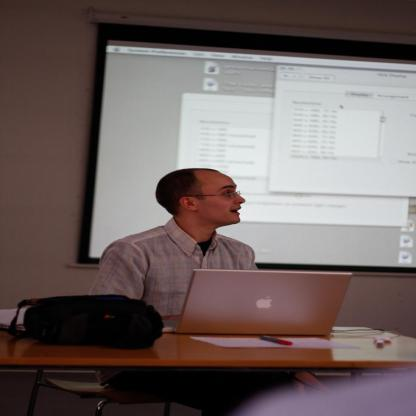board: (184, 273, 309, 343)
